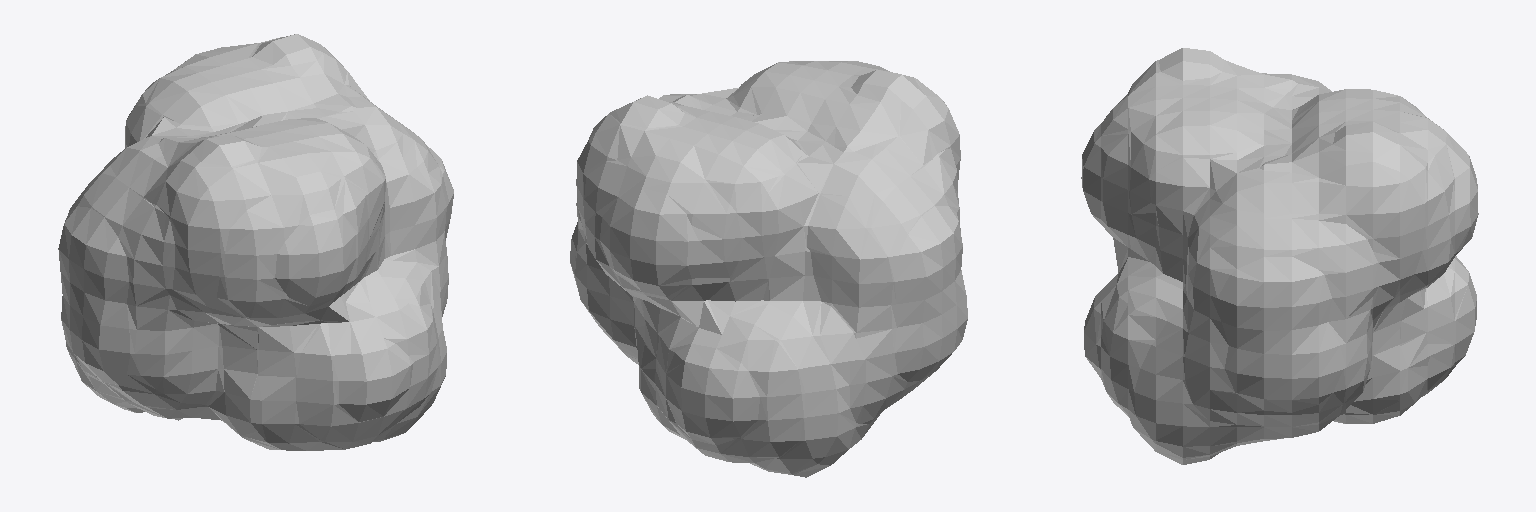
The model's file is 1crw_1_cms.obj.
3 views of the same model, side by side, from view 1: azimuth 30°, elevation 25°; view 2: azimuth 150°, elevation 25°; view 3: azimuth 270°, elevation 25° (orthographic).
Size of the model in its own units: 107 by 93.55 by 101.